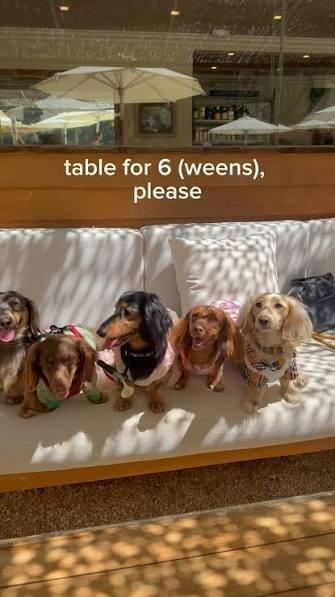adult_dog: (93, 290, 179, 414), (234, 291, 314, 412), (20, 333, 108, 419), (167, 299, 244, 395), (0, 289, 39, 406)
